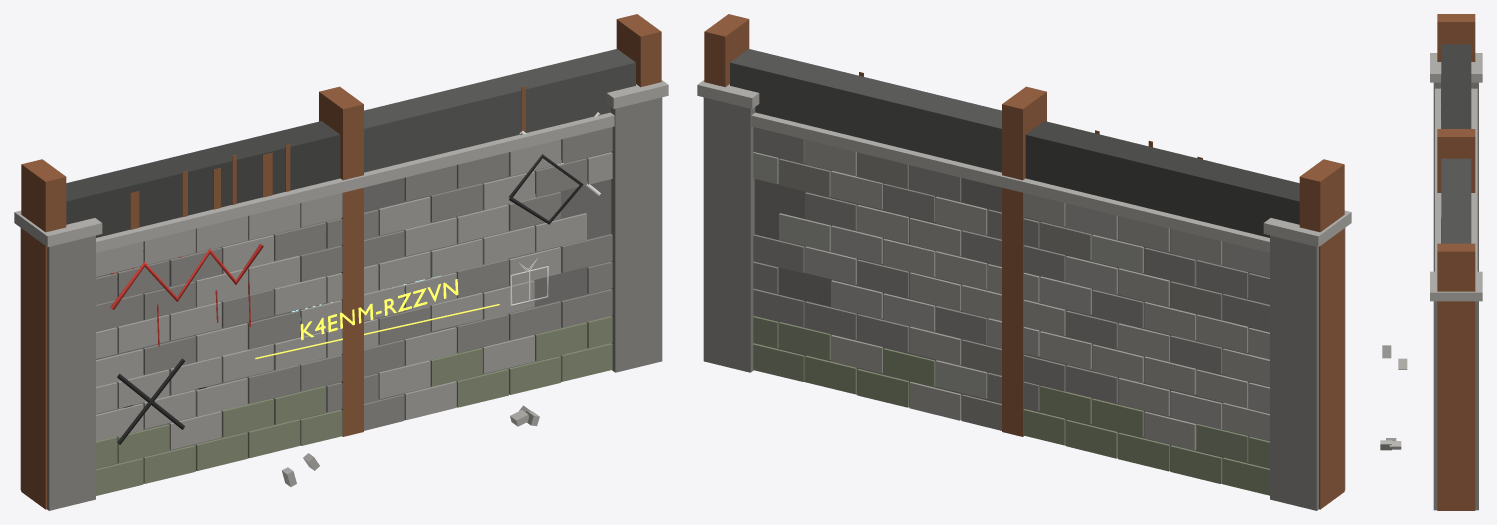
File: graffiti.glb
The picture shows the model from 3 angles, left to right: view 1: azimuth 30°, elevation 25°; view 2: azimuth 150°, elevation 25°; view 3: azimuth 270°, elevation 25°; orthographic projection. The views are drawn at different scales.
Visible parts, largest first — view 1: code_wall, code_wall_port; view 2: code_wall, code_wall_port; view 3: code_wall_port, code_wall.
Boxes of the visible parts, x1,y1,x2,y2 form: code_wall: [14, 80, 668, 510]; code_wall_port: [21, 14, 661, 509]; code_wall: [697, 80, 1351, 510]; code_wall_port: [704, 14, 1344, 509]; code_wall_port: [1437, 14, 1475, 510]; code_wall: [1380, 53, 1482, 510].
Bounding box in the file's own units: 4.76 × 2.43 × 0.8568.
